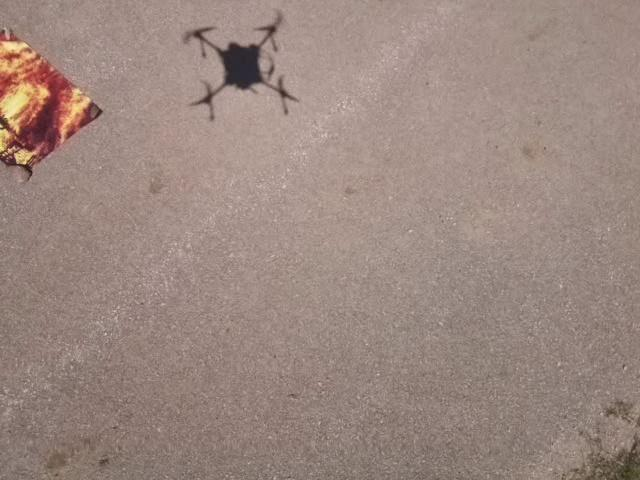fire-poster: (0, 24, 104, 183)
